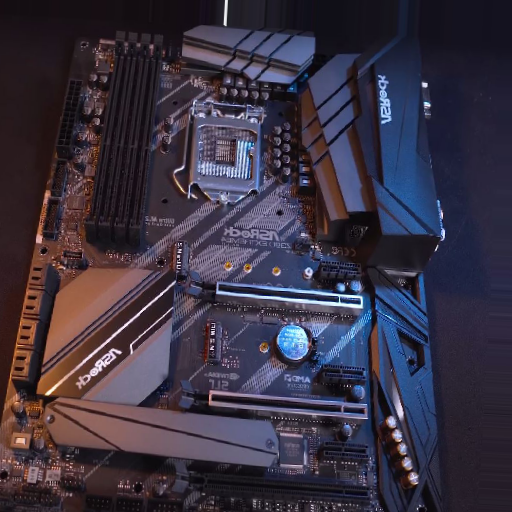CPU: (184, 109, 262, 202)
GPU: (169, 459, 370, 508), (178, 377, 369, 428), (185, 269, 365, 316)
MOTHERBOARD: (9, 21, 449, 512)
RAM: (84, 31, 166, 248)
SSD: (203, 320, 226, 363), (170, 242, 191, 276)
